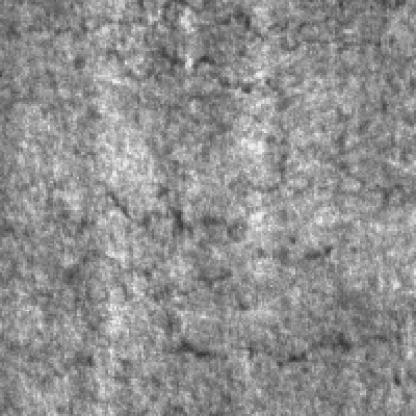crazing: (19, 191, 356, 387), (0, 4, 382, 126)
